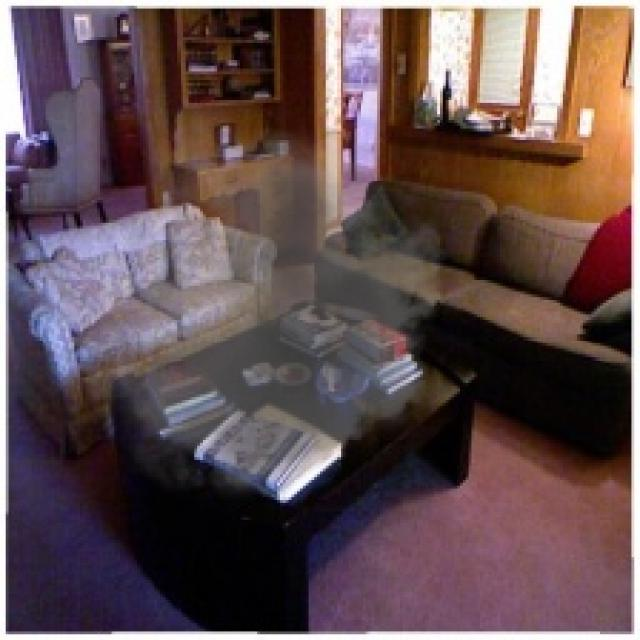smoke: (68, 128, 463, 512)
